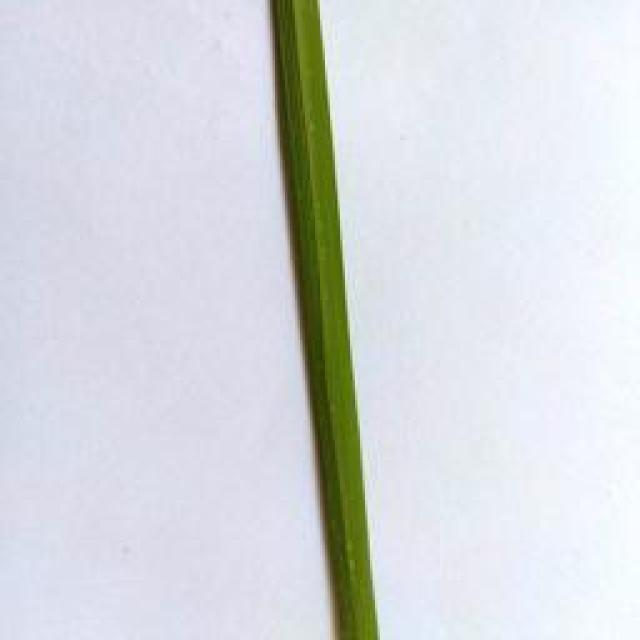Healthy-Plant: (258, 0, 403, 640)
